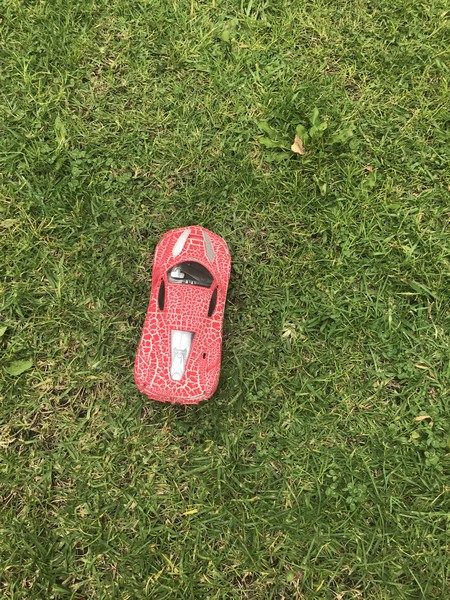RC: (131, 224, 232, 409)
